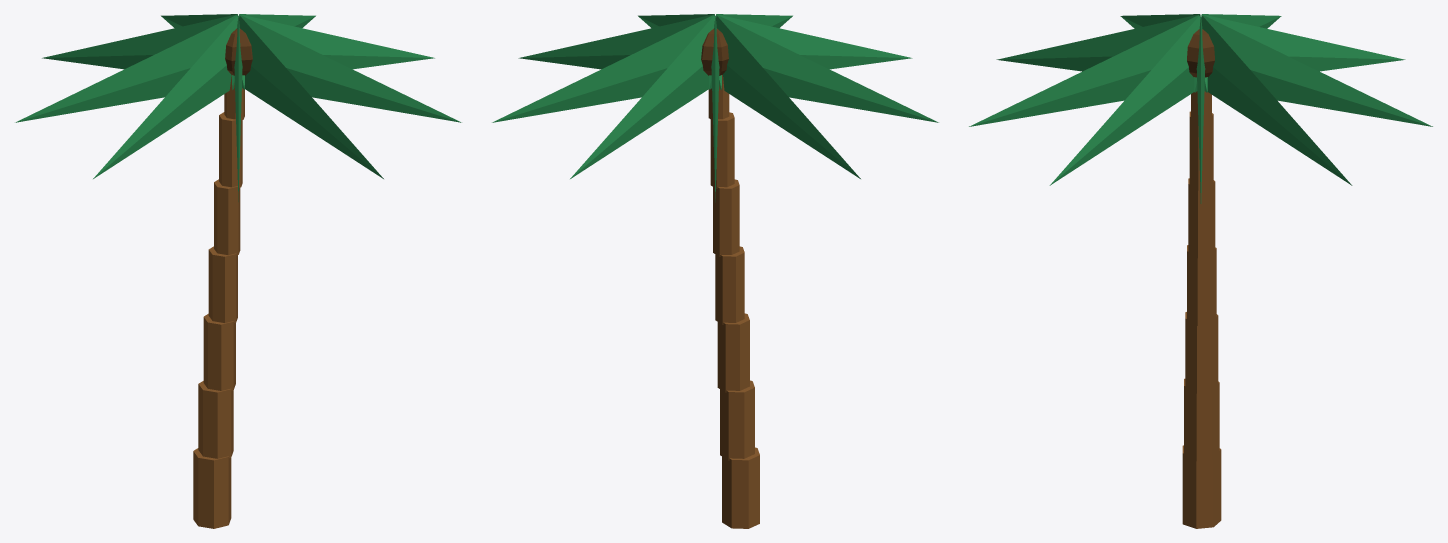
File: palm.glb
3 views of the same model, side by side, from view 1: azimuth 30°, elevation 25°; view 2: azimuth 150°, elevation 25°; view 3: azimuth 270°, elevation 25° (orthographic). The views are drawn at different scales.
Parts seen in each view (by area): view 1: Cone.004, Cone.008, Cone.005, Cone.007, Cone, Cone.003, Cylinder, Cylinder.001, Cylinder.002, Cylinder.003, Cylinder.004, Cylinder.005 (+4 smaller); view 2: Cone.001, Cone.005, Cone.004, Cone.002, Cone, Cone.006, Cylinder, Cylinder.001, Cylinder.002, Cylinder.003, Cylinder.004, Cylinder.005 (+5 smaller); view 3: Cone.002, Cone.007, Cone.001, Cone.008, Cone.003, Cone.006, Cylinder, Cylinder.001, Cylinder.002, Cylinder.003, Cylinder.004, Cylinder.005 (+4 smaller).
Boxes of the visible parts, <box> form: Cone.004: <box>15,15,236,122</box>; Cone.008: <box>240,15,461,122</box>; Cone.005: <box>93,15,237,178</box>; Cone.007: <box>239,15,383,178</box>; Cone: <box>240,14,434,69</box>; Cone.003: <box>42,14,236,69</box>; Cylinder: <box>193,448,231,528</box>; Cylinder.001: <box>198,381,233,458</box>; Cylinder.002: <box>203,313,235,390</box>; Cylinder.003: <box>208,246,237,322</box>; Cylinder.004: <box>214,179,240,255</box>; Cylinder.005: <box>219,112,242,187</box>; Cone.001: <box>492,15,713,122</box>; Cone.005: <box>717,15,938,122</box>; Cone.004: <box>716,15,860,178</box>; Cone.002: <box>570,15,714,178</box>; Cone: <box>518,14,713,69</box>; Cone.006: <box>717,14,912,69</box>; Cylinder: <box>722,447,759,528</box>; Cylinder.001: <box>720,380,754,460</box>; Cylinder.002: <box>717,313,749,392</box>; Cylinder.003: <box>715,246,744,324</box>; Cylinder.004: <box>713,179,739,256</box>; Cylinder.005: <box>710,112,734,188</box>; Cone.002: <box>1203,15,1432,126</box>; Cone.007: <box>969,15,1198,126</box>; Cone.001: <box>1201,16,1352,185</box>; Cone.008: <box>1049,16,1200,185</box>; Cone.003: <box>1202,14,1405,71</box>; Cone.006: <box>996,14,1199,71</box>; Cylinder: <box>1182,445,1221,528</box>; Cylinder.001: <box>1184,378,1219,461</box>; Cylinder.002: <box>1185,312,1218,393</box>; Cylinder.003: <box>1187,245,1216,325</box>; Cylinder.004: <box>1188,178,1215,258</box>; Cylinder.005: <box>1189,111,1213,190</box>.
Size of the model in its own units: 3.62 by 4.52 by 3.68.
